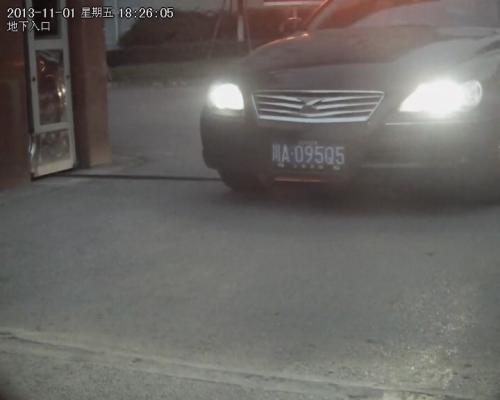Carplate: (262, 132, 352, 178)
